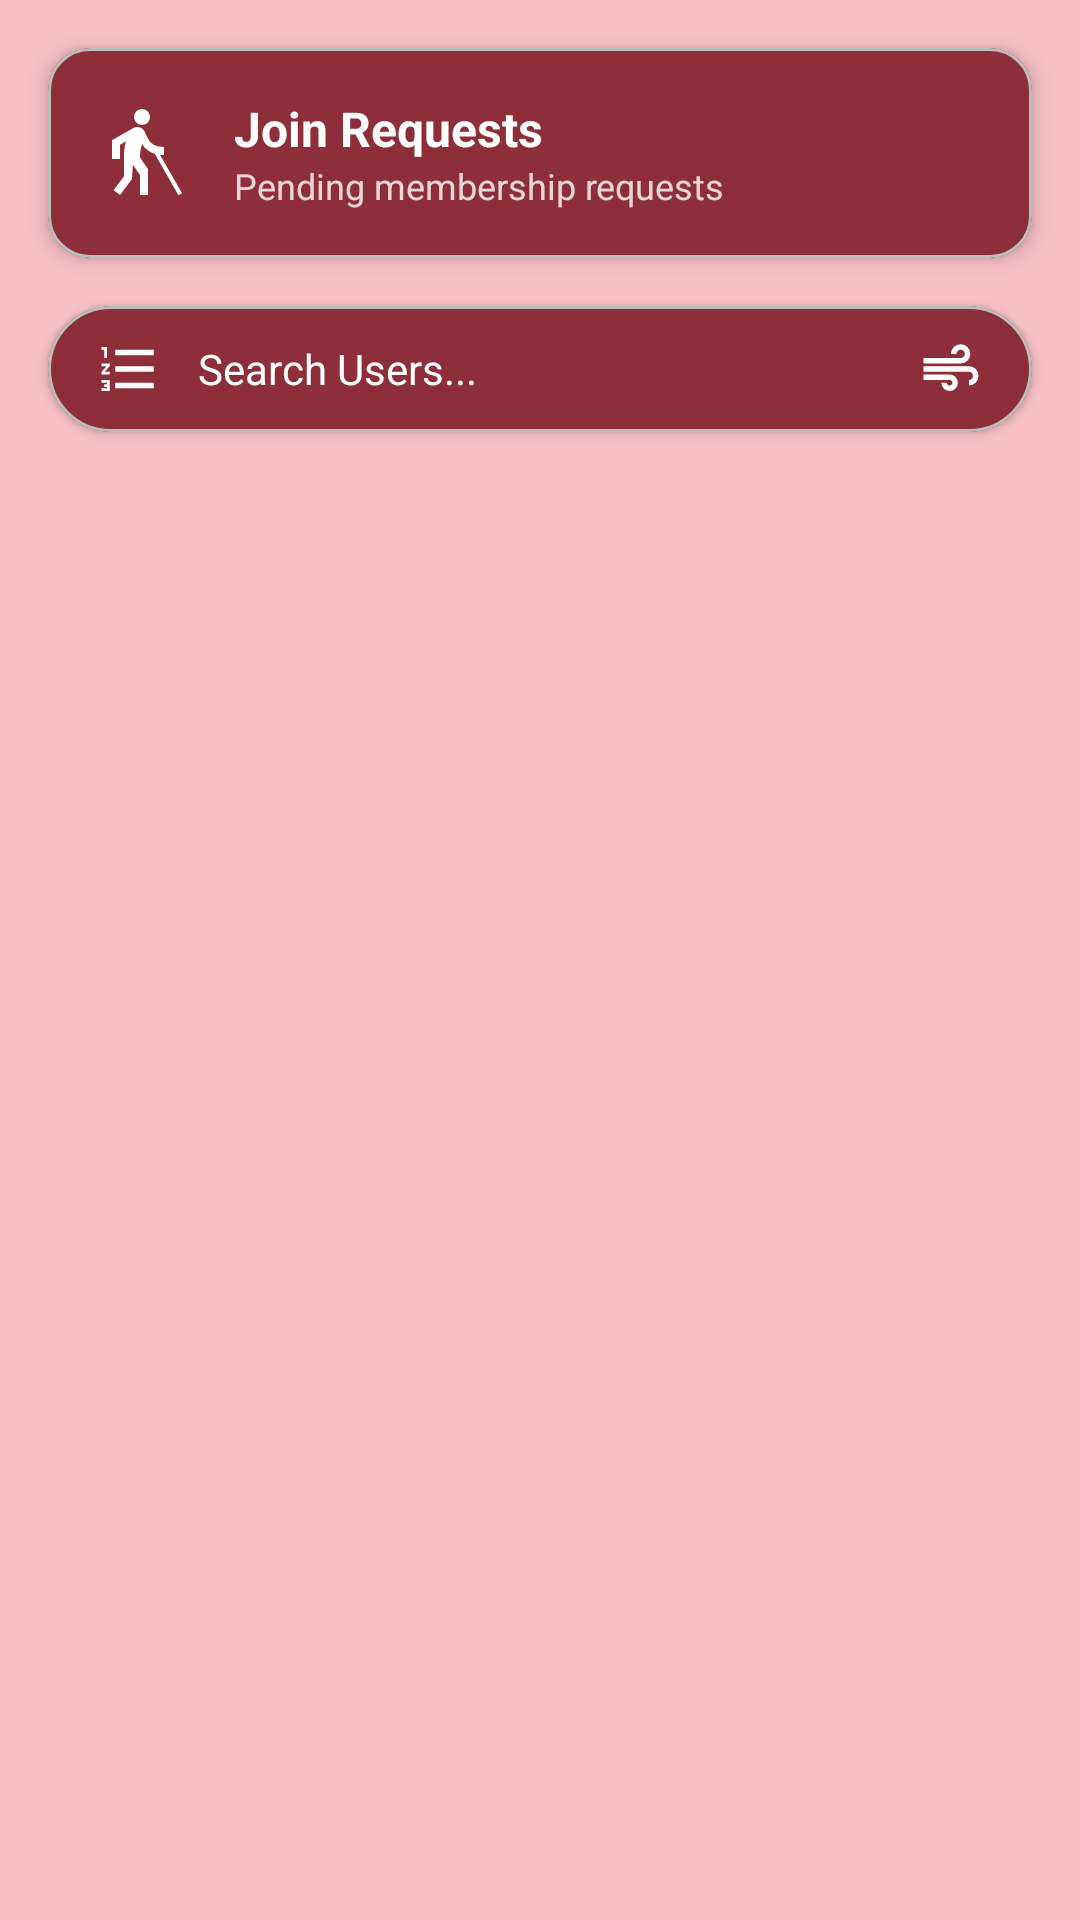

Point at icon controls on the screen. Image size 1080 × 1920, points as (x=x, y=y).
person: (x=147, y=152)
